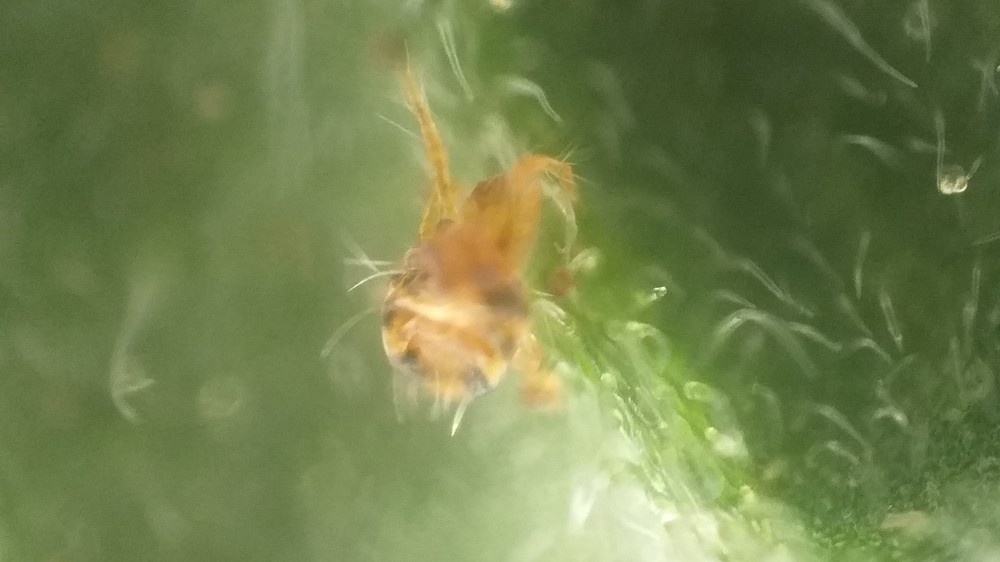Aracnido Rojo: (354, 46, 603, 423)
